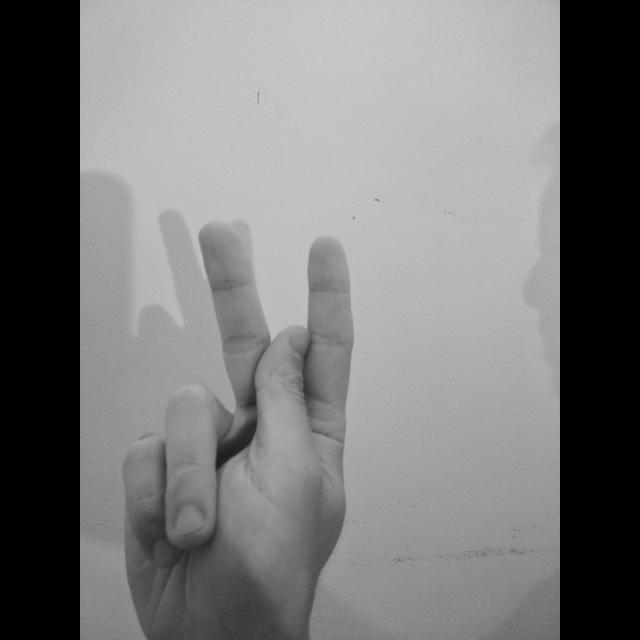K: (114, 211, 362, 639)
